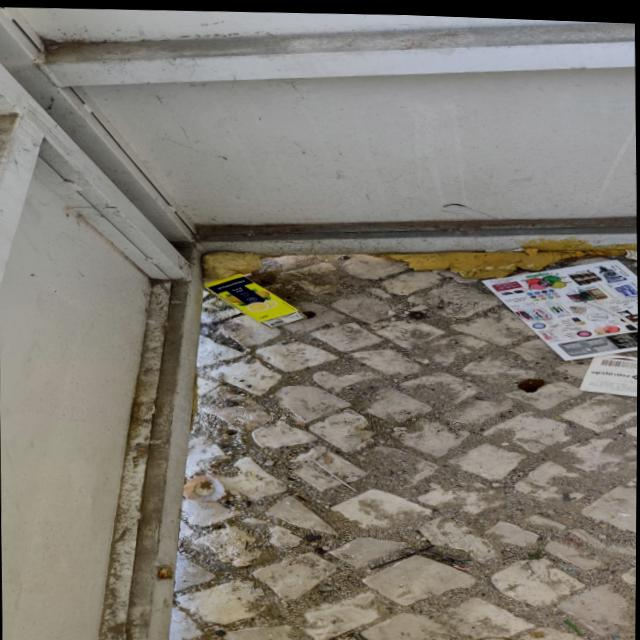Cardboard: (203, 269, 314, 330)
Paper: (471, 244, 639, 364), (556, 344, 638, 394)
